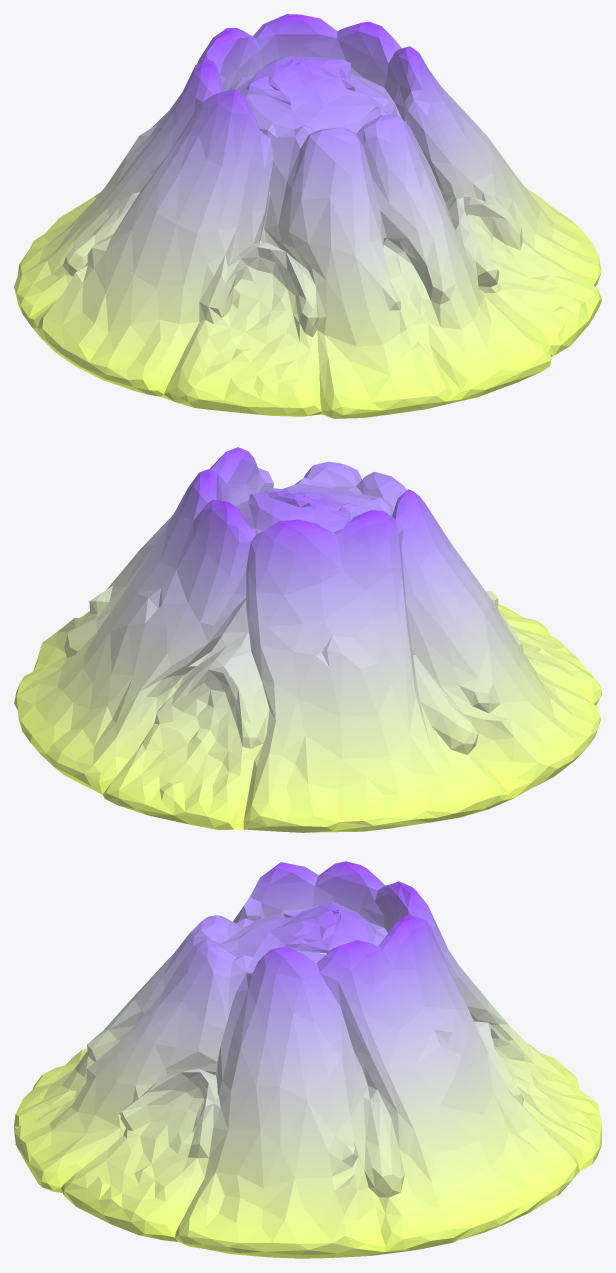
The model's file is 124_cyb_laser_gradient_fish_scales_2930_2026_10_03_7d23f9.glb.
3 views of the same model, one above another, from view 1: azimuth 30°, elevation 25°; view 2: azimuth 150°, elevation 25°; view 3: azimuth 270°, elevation 25° (orthographic).
Parts seen in each view (by area): view 1: geometry_0; view 2: geometry_0; view 3: geometry_0.
Part boxes in pixels (box(x1,y1,x2,y2)): geometry_0: box(14, 14, 601, 418); geometry_0: box(14, 447, 601, 832); geometry_0: box(14, 861, 601, 1258).
Size of the model in its own units: 1 by 0.4483 by 0.9995.
